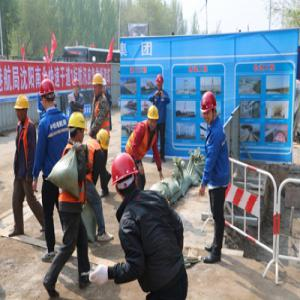red: (111, 154, 140, 200), (202, 91, 219, 126), (41, 80, 57, 111), (157, 75, 165, 92), (73, 80, 81, 95)
yellow: (68, 112, 88, 146), (15, 96, 31, 122), (147, 106, 160, 132), (97, 130, 111, 153), (93, 74, 104, 97)
